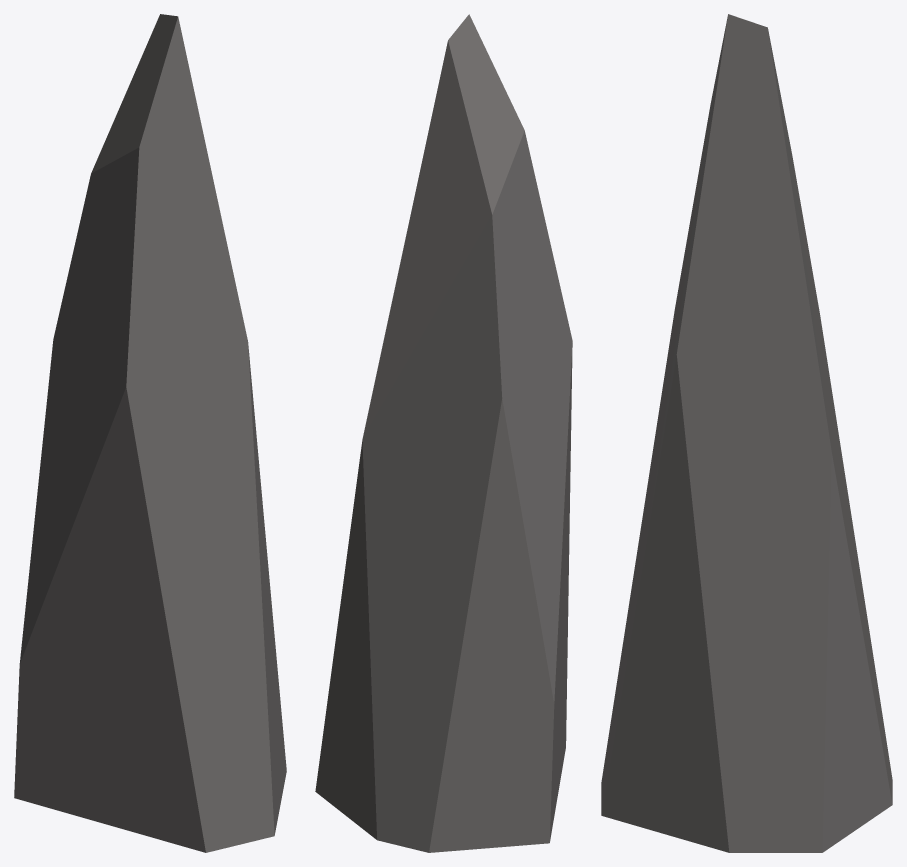
The model's file is Rock_Sharp_s_10.fbx.
3 renders of one model, left to right at view 1: azimuth 30°, elevation 25°; view 2: azimuth 150°, elevation 25°; view 3: azimuth 270°, elevation 25°, orthographic.
Parts seen in each view (by area): view 1: Rock_Sharp_s_10; view 2: Rock_Sharp_s_10; view 3: Rock_Sharp_s_10.
Part boxes in pixels (x1,y1,x2,y2): Rock_Sharp_s_10: (14,14,286,852); Rock_Sharp_s_10: (315,14,572,852); Rock_Sharp_s_10: (601,14,892,852).
Size of the model in its own units: 22.57 by 72.63 by 24.39.
